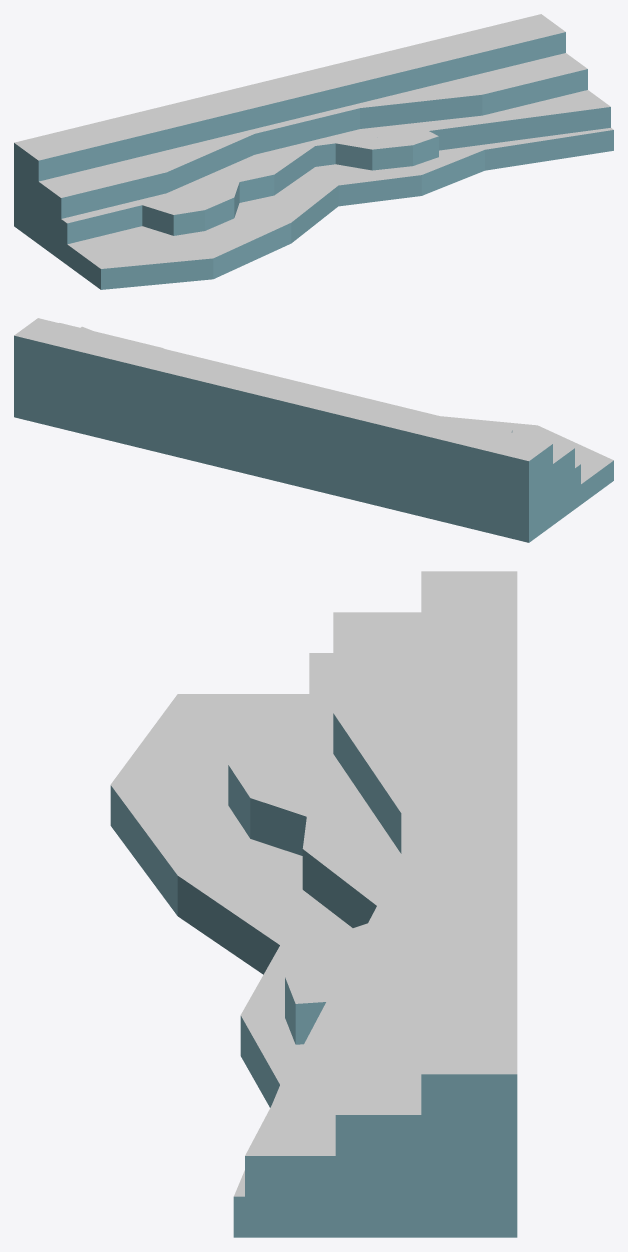
Rendered from terrain_arctic_wall_01.fbx.
The picture shows the model from 3 angles, top to bottom: view 1: azimuth 30°, elevation 25°; view 2: azimuth 150°, elevation 25°; view 3: azimuth 270°, elevation 25°; orthographic projection. The views are drawn at different scales.
Parts seen in each view (by area): view 1: Plane.028; view 2: Plane.028; view 3: Plane.028.
Part boxes in pixels (x1,y1,x2,y2): Plane.028: (14,14,613,289); Plane.028: (14,318,613,542); Plane.028: (110,571,517,1237).
Size of the model in its own units: 13200 by 2000 by 4517.
